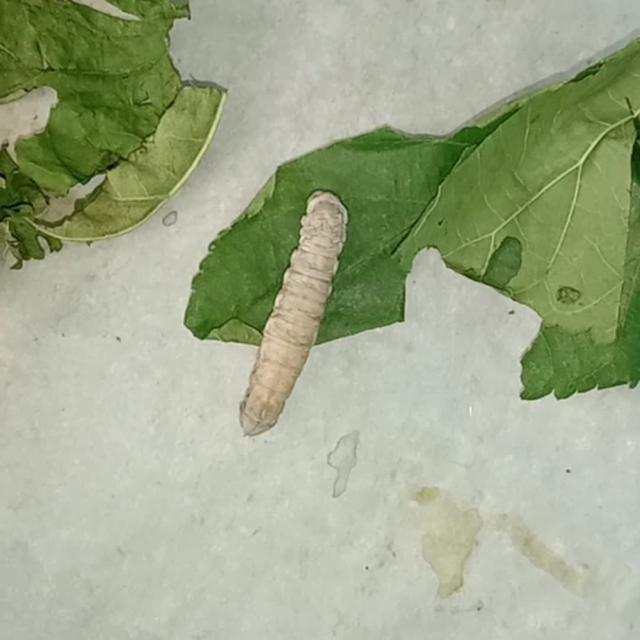Grasserie: (219, 180, 366, 442)
